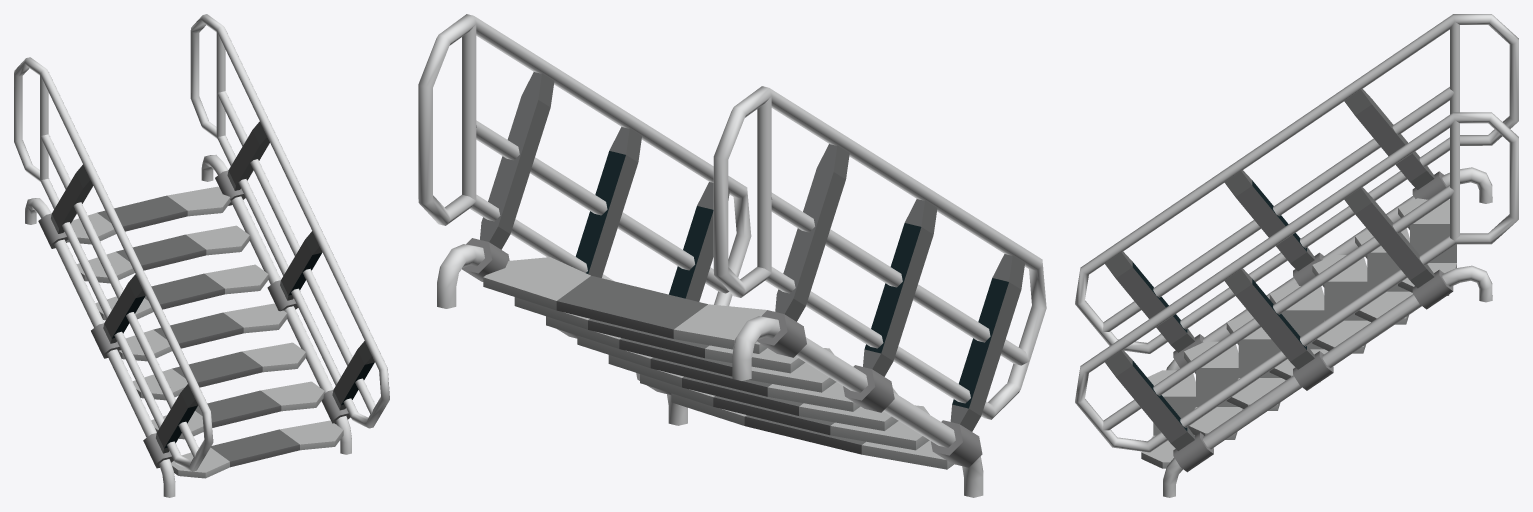
Rendered from Stair_type_A_003.glb.
3 views of the same model, side by side, from view 1: azimuth 30°, elevation 25°; view 2: azimuth 150°, elevation 25°; view 3: azimuth 270°, elevation 25° (orthographic). The views are drawn at different scales.
Visible parts, largest first — view 1: Stair_type_A_003, Stair_type_A_fence_003; view 2: Stair_type_A_fence_003, Stair_type_A_003; view 3: Stair_type_A_fence_003, Stair_type_A_003.
Part boxes in pixels (x1=…): Stair_type_A_003: x1=25, y1=154, x2=351, y2=497; Stair_type_A_fence_003: x1=14, y1=14, x2=389, y2=471; Stair_type_A_fence_003: x1=418, y1=14, x2=1046, y2=431; Stair_type_A_003: x1=437, y1=238, x2=983, y2=497; Stair_type_A_fence_003: x1=1075, y1=14, x2=1518, y2=452; Stair_type_A_003: x1=1141, y1=167, x2=1492, y2=497.
Size of the model in its own units: 1.8 by 2.92 by 3.09.
1 material, 1 textured.
